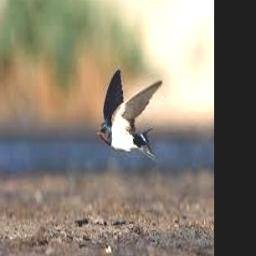Swallow: (97, 69, 162, 161)
